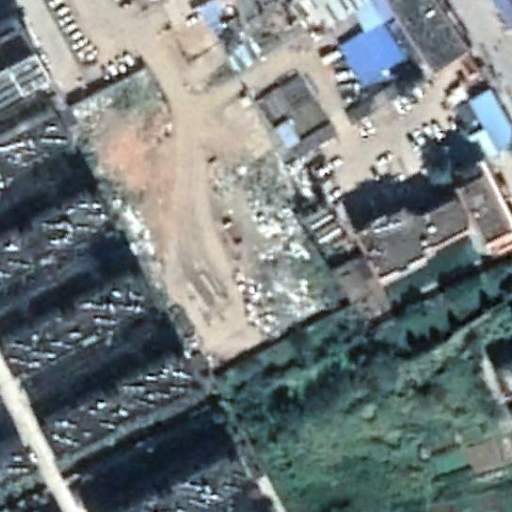msw: (211, 150, 327, 340)
